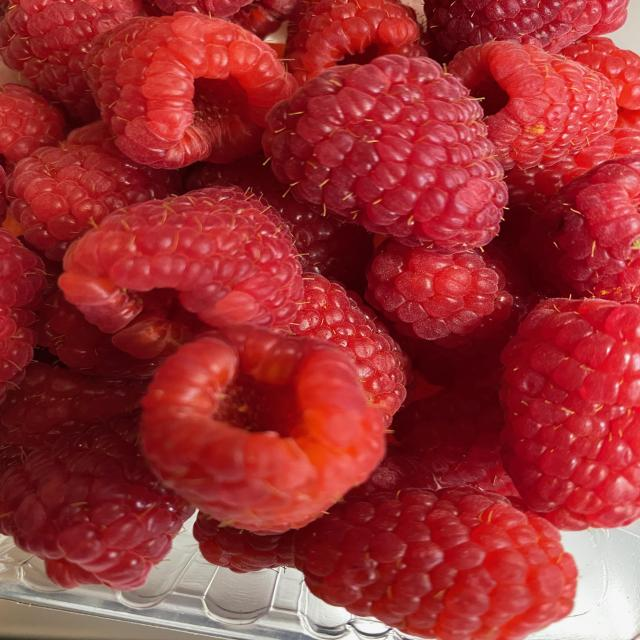raspberries: (10, 12, 612, 622)
